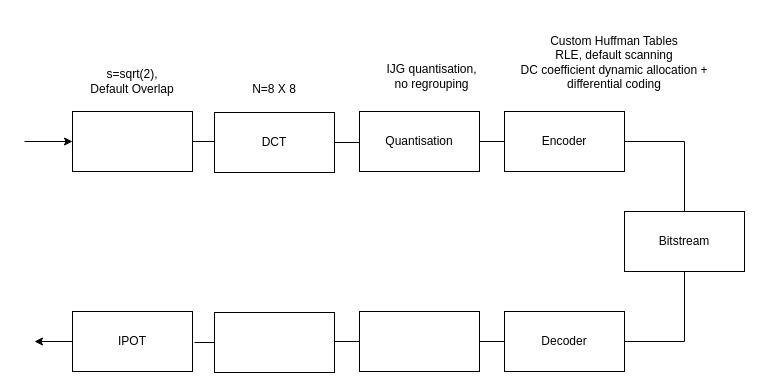
This 762x390 diagram has some shape labels left out. The centre of each missing label's shape, as x and y in pixels:
IDCT: point (274, 342)
POT: point (132, 141)
Quantiser 2: point (419, 341)
